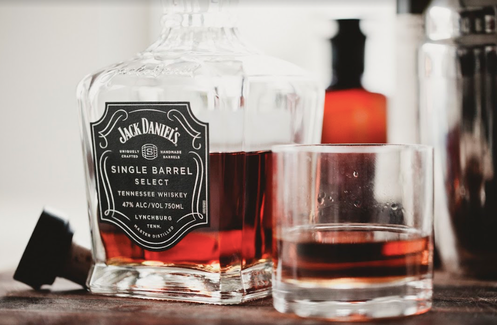jack: (97, 102, 213, 246)
